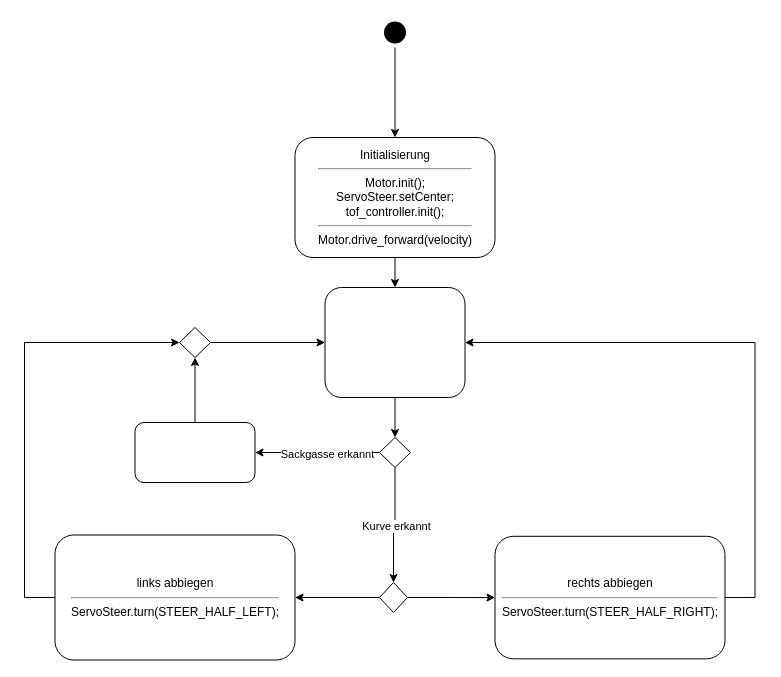
Some shapes in this 781 by 677 pixel diagram are drawn without their labels. The shapes that lost their labels are listed below. From the top down, each one's box as (x1, y1, x2, y2) in pixels, then its label:
(324, 286, 465, 398): Abstand messen US vorne TOF vorne weighted_distance
(134, 422, 255, 482): Stop Motor.stop();
